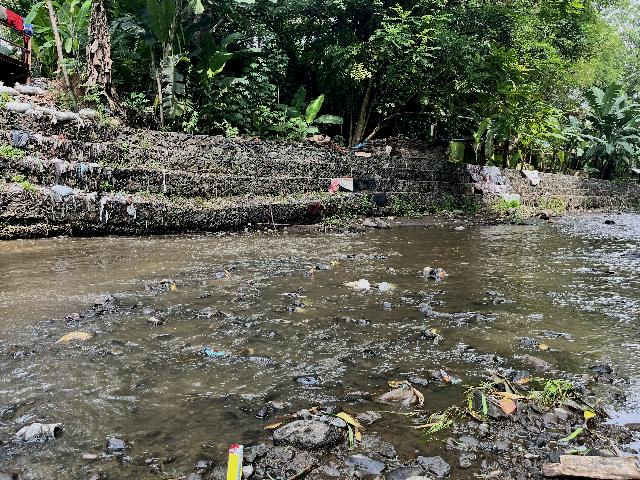Sampah Anorganik: (380, 378, 426, 408), (226, 442, 249, 480), (436, 367, 463, 389), (198, 344, 232, 358), (335, 278, 374, 290), (421, 266, 449, 281), (376, 278, 399, 292), (278, 292, 307, 298), (329, 260, 340, 266), (244, 279, 253, 284)
Sampah Organik: (473, 372, 640, 480), (256, 400, 369, 452), (51, 329, 94, 344), (428, 327, 444, 341), (536, 342, 550, 353), (237, 348, 254, 356), (292, 306, 307, 315), (63, 312, 81, 319), (207, 309, 220, 318), (222, 269, 234, 277), (169, 282, 178, 291), (301, 301, 312, 306), (310, 268, 314, 274)
